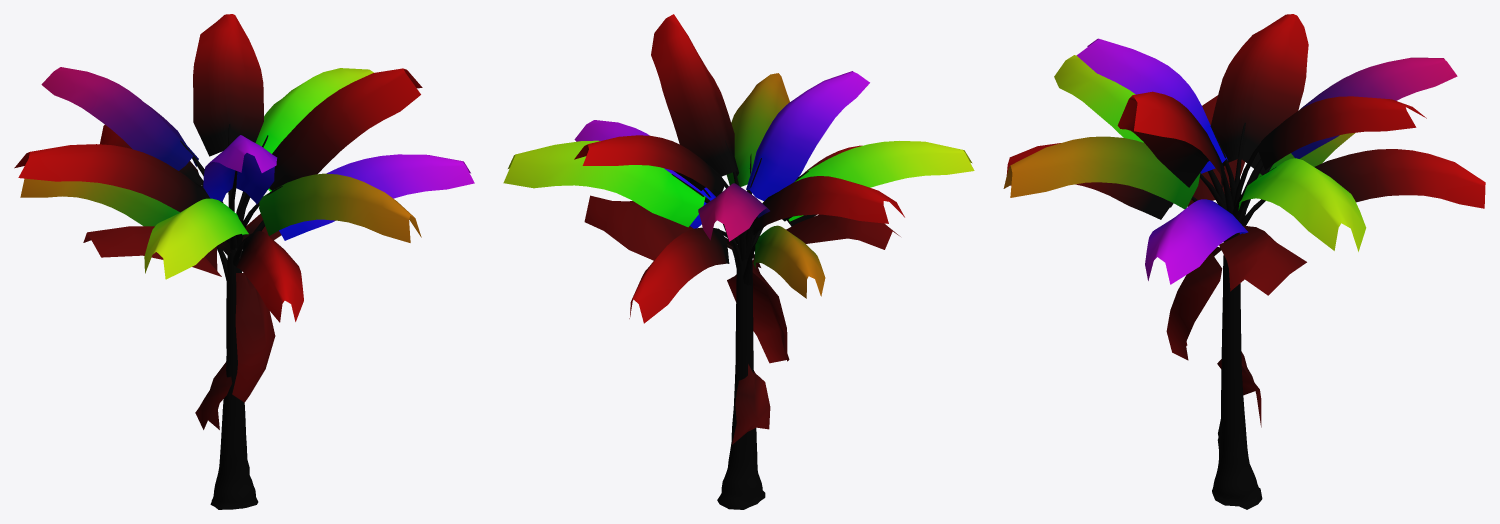
Rendered from RGBTree.fbx.
The picture shows the model from 3 angles, left to right: view 1: azimuth 30°, elevation 25°; view 2: azimuth 150°, elevation 25°; view 3: azimuth 270°, elevation 25°; orthographic projection. The views are drawn at different scales.
Parts seen in each view (by area): view 1: BananaTree_var1_LOD0; view 2: BananaTree_var1_LOD0; view 3: BananaTree_var1_LOD0.
Boxes of the visible parts, x1,y1,x2,y2 form: BananaTree_var1_LOD0: (14, 14, 474, 509); BananaTree_var1_LOD0: (503, 14, 974, 509); BananaTree_var1_LOD0: (1003, 14, 1485, 509).
Size of the model in its own units: 7.9 by 8.4 by 7.88.
